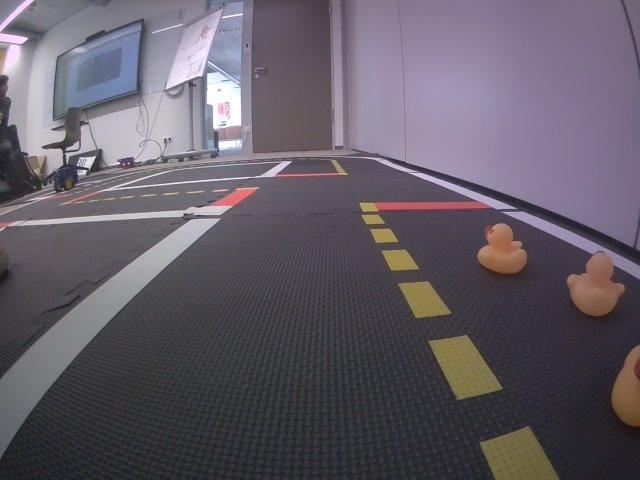bot: (53, 165, 78, 189)
duckie: (565, 250, 626, 317), (476, 222, 527, 273), (612, 344, 639, 428)
park: (27, 181, 101, 201)
